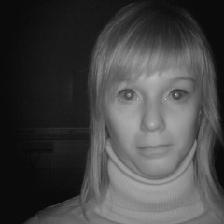sad: (73, 7, 224, 205)
